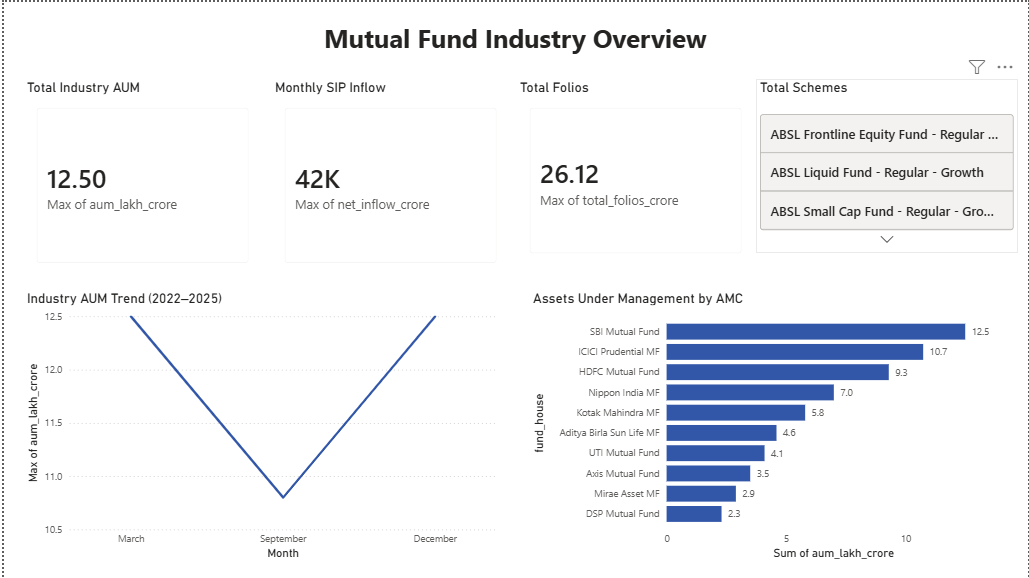

The page's visual inventory and layout, read from the dashboard file:
{"tool":"powerbi","page":{"name":"industry overview","canvas":[1280,720],"ordinal":0},"visuals":[{"type":"FlowVisual_C29F1DCC_81F5_4973_94AD_0517D44CC06A","box":[10,0,280,280],"z":0},{"type":"textbox","box":[379.3,17.5,520.4,78.8],"z":1000},{"type":"cardVisual","title":"Total Industry AUM","fields":{"Data":["Max(03_aum_by_fund_house_clean.aum_lakh_crore)"]},"box":[24.3,96.3,299.6,247.1],"z":2000},{"type":"cardVisual","title":"Monthly SIP Inflow","fields":{"Data":["Max(05_category_inflows_clean.net_inflow_crore)"]},"box":[333.6,96.3,299.6,247.1],"z":3000},{"type":"cardVisual","title":"Total Folios","fields":{"Data":["Max(06_industry_folio_count_clean.total_folios_crore)"]},"box":[640,96.3,299.6,235.4],"z":4000},{"type":"cardVisual","title":"Total Schemes","fields":{"Rows":["01_fund_master_clean.scheme_name"]},"box":[939.6,96.3,327.8,216.9],"z":5000},{"type":"lineChart","title":"Industry AUM Trend (2022–2025)","fields":{"Category":["03_aum_by_fund_house_clean.date.Variation.Date Hierarchy.Month"],"Y":["Max(03_aum_by_fund_house_clean.aum_lakh_crore)"]},"box":[24.3,359.9,596.2,342.4],"z":6000},{"type":"clusteredBarChart","title":"Assets Under Management by AMC","fields":{"Y":["Sum(03_aum_by_fund_house_clean.aum_lakh_crore)"],"Category":["03_aum_by_fund_house_clean.fund_house"]},"box":[656.5,359.9,602.1,342.4],"z":7000}]}

Visuals, with their boxes in screenshot pixels (x1, y1, x2, y2), scaled from the page's 1280x720 canvas onto the 1029x578 screenshot:
FlowVisual_C29F1DCC_81F5_4973_94AD_0517D44CC06A: left=8, top=0, right=233, bottom=225
textbox: left=305, top=14, right=723, bottom=77
"Total Industry AUM" cardVisual: left=20, top=77, right=260, bottom=276
"Monthly SIP Inflow" cardVisual: left=268, top=77, right=509, bottom=276
"Total Folios" cardVisual: left=514, top=77, right=755, bottom=266
"Total Schemes" cardVisual: left=755, top=77, right=1019, bottom=251
"Industry AUM Trend (2022–2025)" lineChart: left=20, top=289, right=499, bottom=564
"Assets Under Management by AMC" clusteredBarChart: left=528, top=289, right=1012, bottom=564
